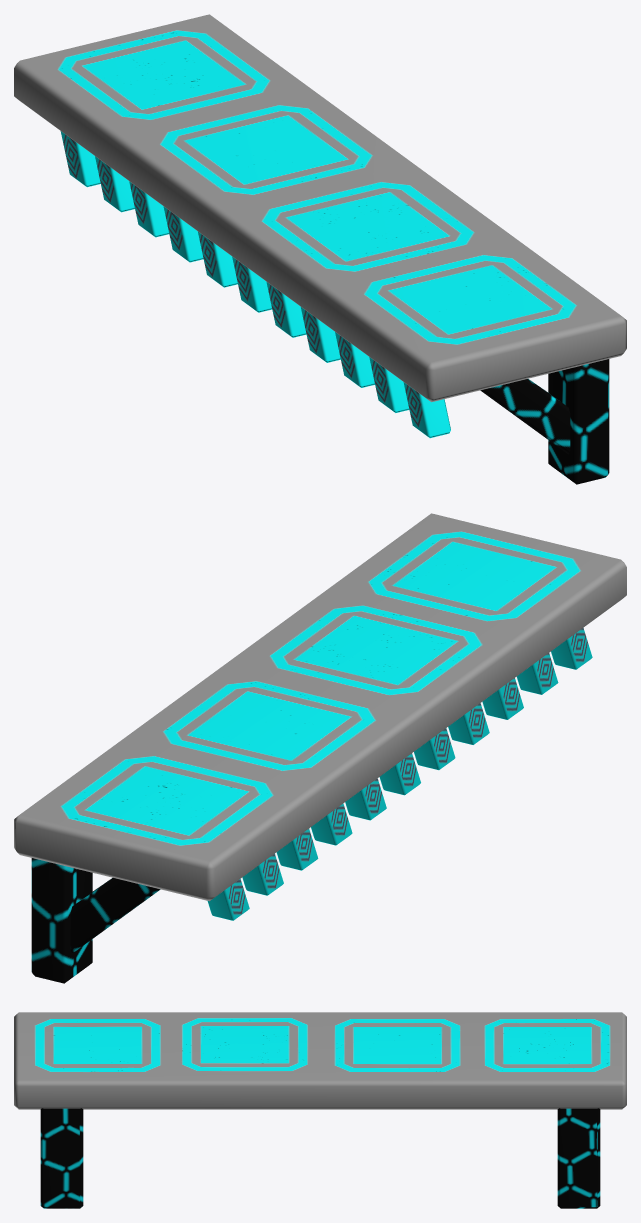
The model's file is SM_Shelf_02.fbx.
3 views of the same model, one above another, from view 1: azimuth 30°, elevation 25°; view 2: azimuth 150°, elevation 25°; view 3: azimuth 270°, elevation 25° (orthographic). The views are drawn at different scales.
Visible parts, largest first — view 1: SM_Shelf_02; view 2: SM_Shelf_02; view 3: SM_Shelf_02.
Part boxes in pixels (x1,y1,x2,y2): SM_Shelf_02: [14, 14, 626, 484]; SM_Shelf_02: [14, 513, 626, 983]; SM_Shelf_02: [14, 1012, 626, 1208].
Size of the model in its own units: 37.39 by 135 by 31.02.
